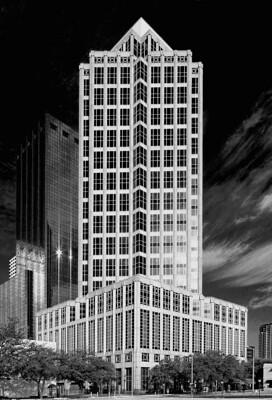building: (76, 12, 206, 362)
